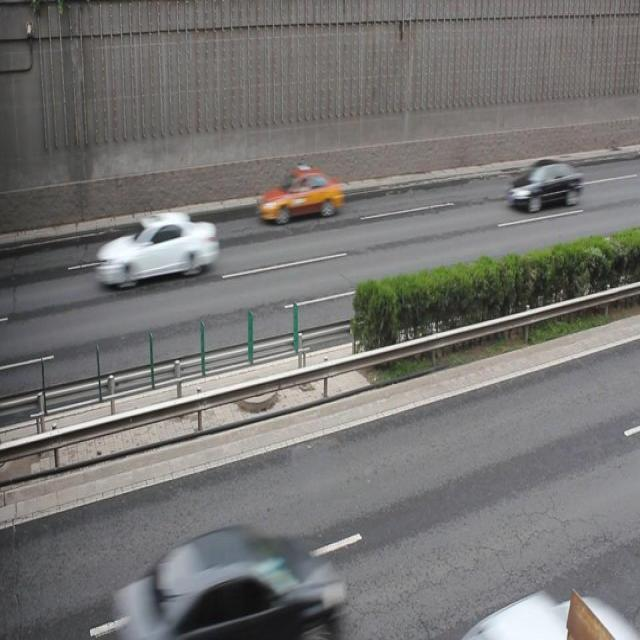car: (112, 524, 339, 640), (96, 212, 218, 288), (465, 583, 597, 640), (260, 163, 342, 223), (509, 155, 582, 211)
